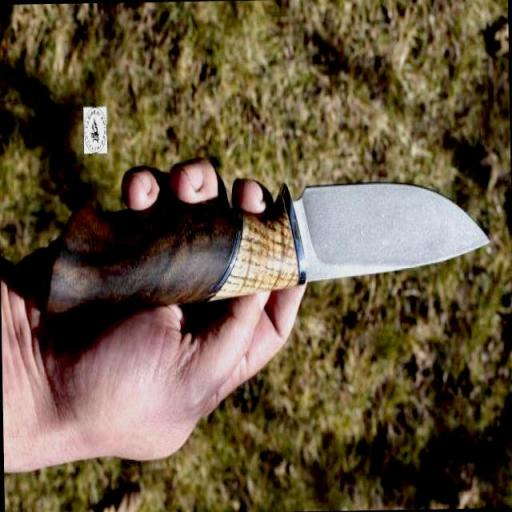knife: (41, 182, 492, 324)
